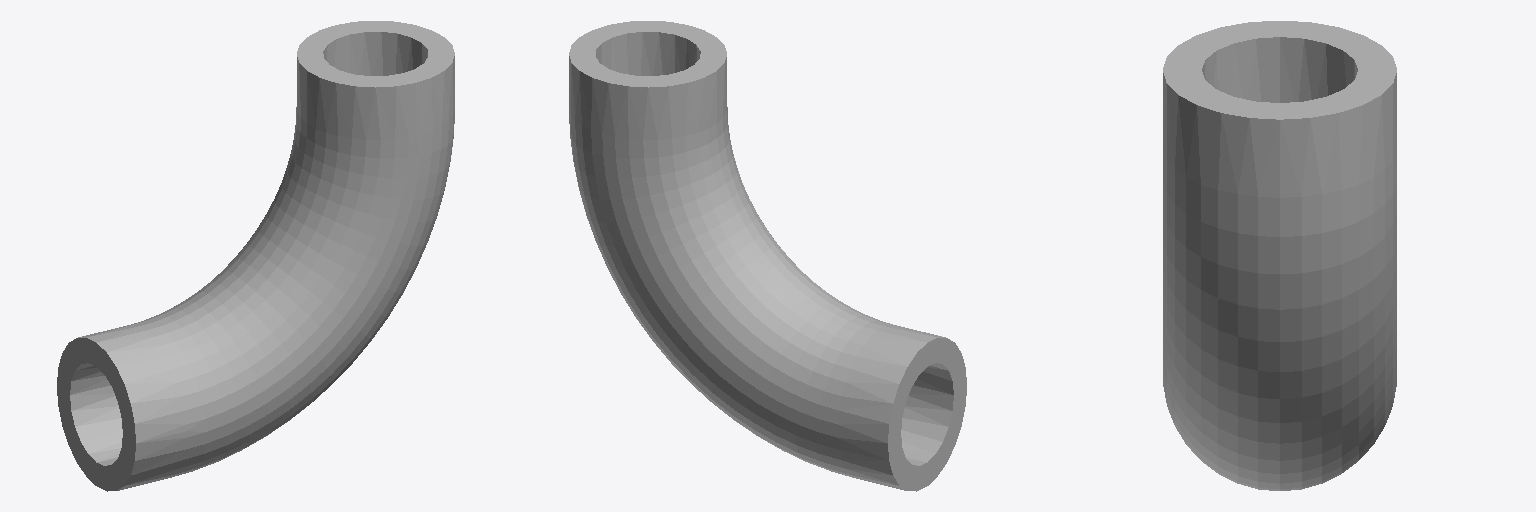
URDF robot description (90elbow_200):
<robot
  name="90elbow_200">
  <link
    name="90elbow_200">
    <inertial>
      <origin
        xyz="-0.097287 0.15271 5.19059999064952E-09"
        rpy="0 0 0" />
      <mass
        value="4.9352" />
      <inertia
        ixx="0.0625425242828784"
        ixy="-0.0383433510054049"
        ixz="6.12548717089873E-08"
        iyy="0.0625425242828784"
        iyz="-6.12548717114464E-08"
        izz="0.105035663512102" />
    </inertial>
    <visual>
      <origin
        xyz="1.5707963267949 0 0"
        rpy="0 0 0" />
      <geometry>
        <mesh
          filename="package://cr_mit/URDF/90elbow_200/meshes/90elbow_200.STL" />
      </geometry>
      <material
        name="">
        <color
          rgba="0.7451 0.7451 0.7451 1" />
      </material>
    </visual>
    <collision>
      <origin
        xyz="0 0 0"
        rpy="1.5707963267949 0 0" />
      <geometry>
        <mesh
          filename="package://cr_mit/URDF/90elbow_200/meshes/90elbow_200.STL" />
      </geometry>
    </collision>
  </link>
</robot>

--- What the picture shows (computed from the rendered views, not written in the file) ---
Views: 3 orthographic renders of the robot side by side, from view 1: azimuth 30°, elevation 25°; view 2: azimuth 150°, elevation 25°; view 3: azimuth 270°, elevation 25°.
Model 90elbow_200 with 1 links and 0 joints (none), rooted at 90elbow_200, posed all joints at 0.
Visible links, largest first — view 1: 90elbow_200; view 2: 90elbow_200; view 3: 90elbow_200.
Link boxes in pixels (box(x1,y1,x2,y2)): 90elbow_200: box(57, 21, 454, 491); 90elbow_200: box(569, 21, 966, 491); 90elbow_200: box(1163, 21, 1396, 490).
Bounding box of the posed robot: 0.38 × 0.15 × 0.38 m (x, y, z).
Meshes: 1 distinct files referenced, 1 mesh visuals loaded (1 binary STL).
